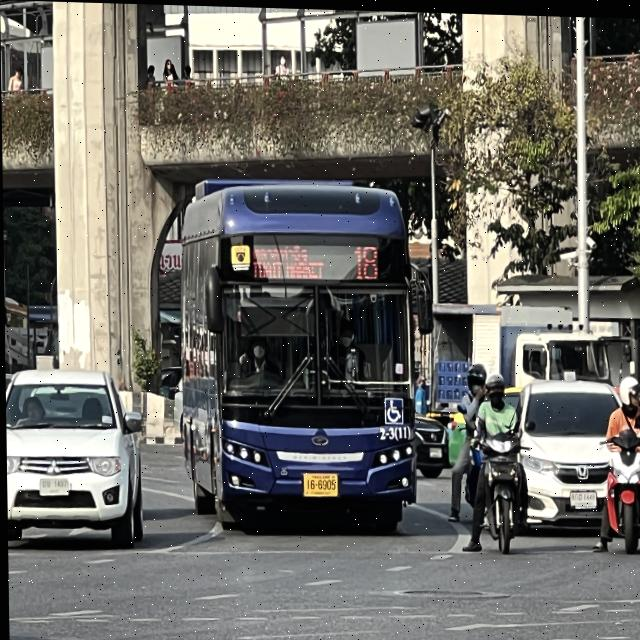Bus-Line-Number: (349, 236, 386, 283)
Destination-Sign-Normal: (248, 238, 326, 282)
TSB-Bus: (173, 175, 416, 537)
